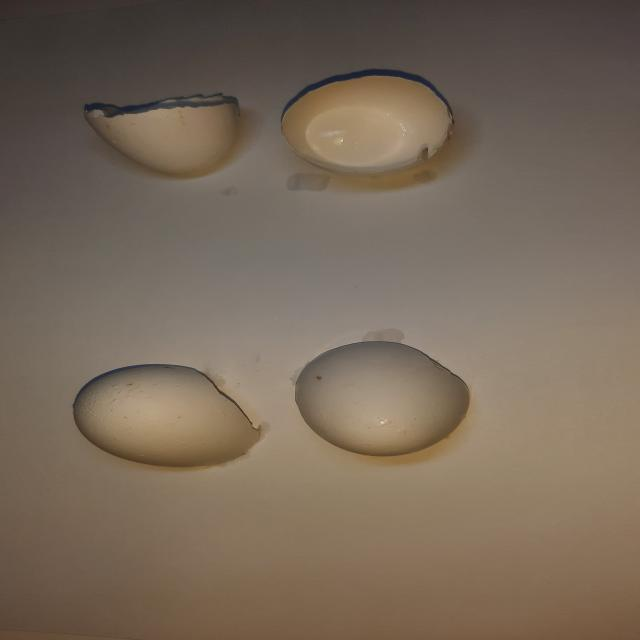egg shell: (72, 336, 483, 472), (290, 338, 477, 460), (68, 363, 265, 470), (275, 69, 457, 178), (78, 88, 248, 178)
